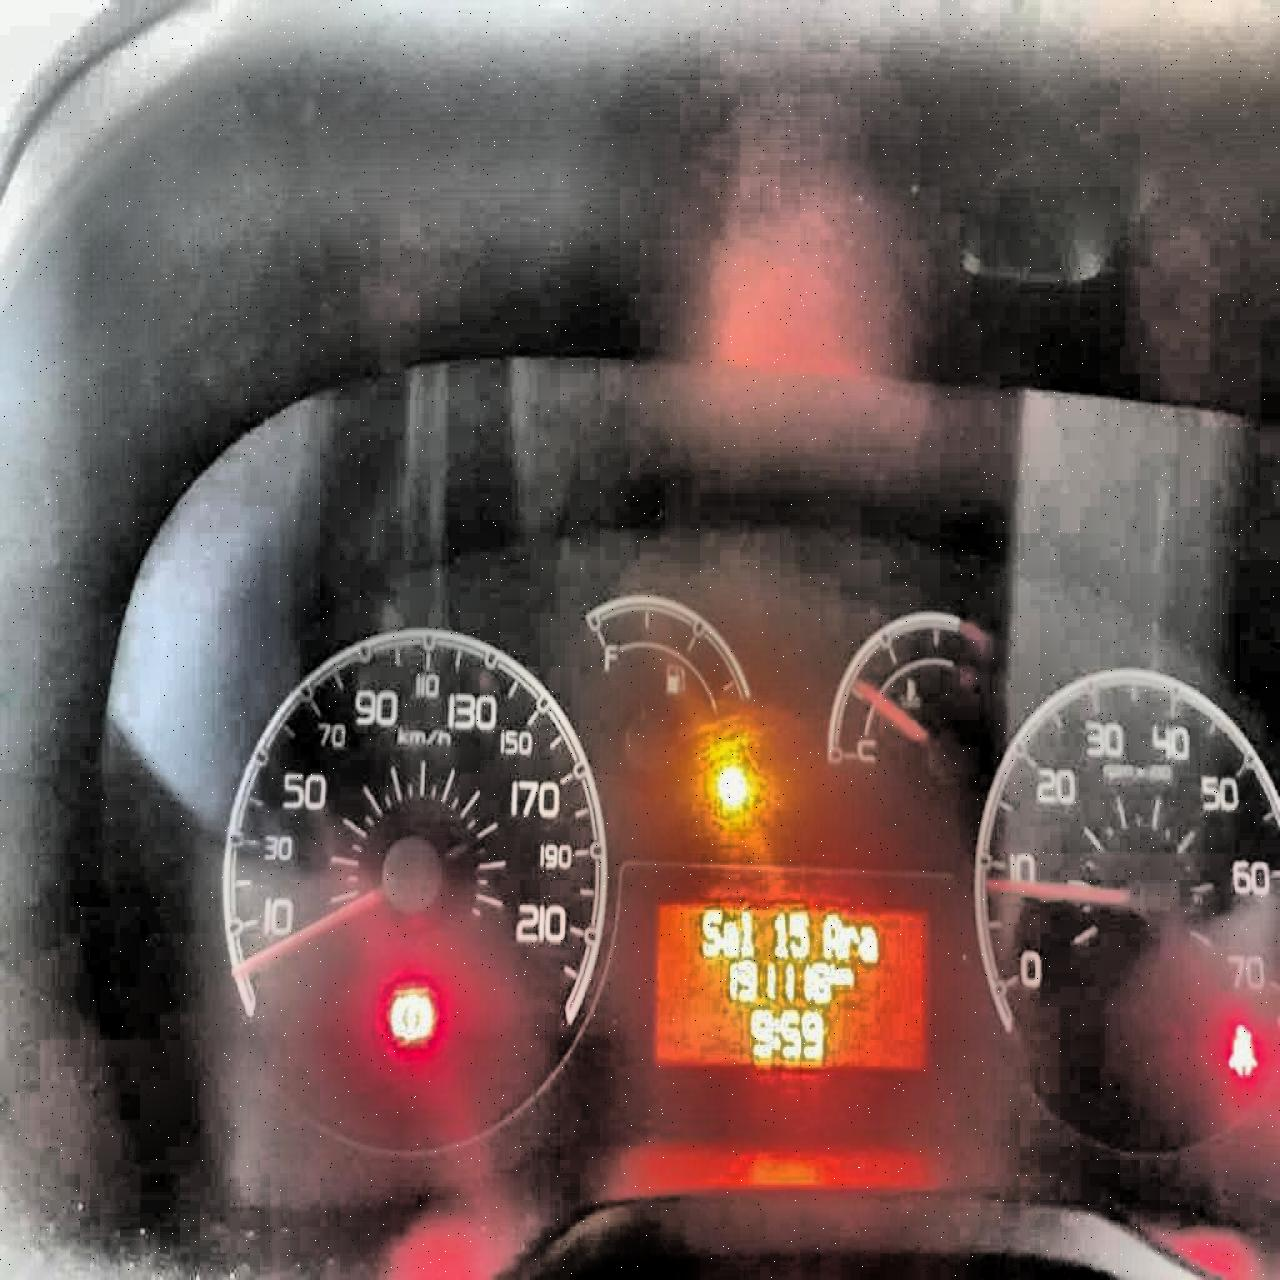1: (774, 908, 787, 960), (783, 964, 797, 1002), (764, 956, 775, 1006), (799, 961, 811, 1003), (728, 961, 738, 1003)
5: (789, 911, 809, 956), (782, 1008, 798, 1062)
8: (812, 959, 829, 1005)
9: (802, 1008, 824, 1060), (750, 1008, 771, 1060), (738, 960, 757, 1003)
X: (821, 908, 840, 964), (699, 905, 720, 955), (858, 920, 880, 961), (738, 907, 755, 960), (721, 920, 738, 959), (842, 924, 858, 960), (771, 1013, 779, 1051)
odometer: (653, 900, 935, 1074)
